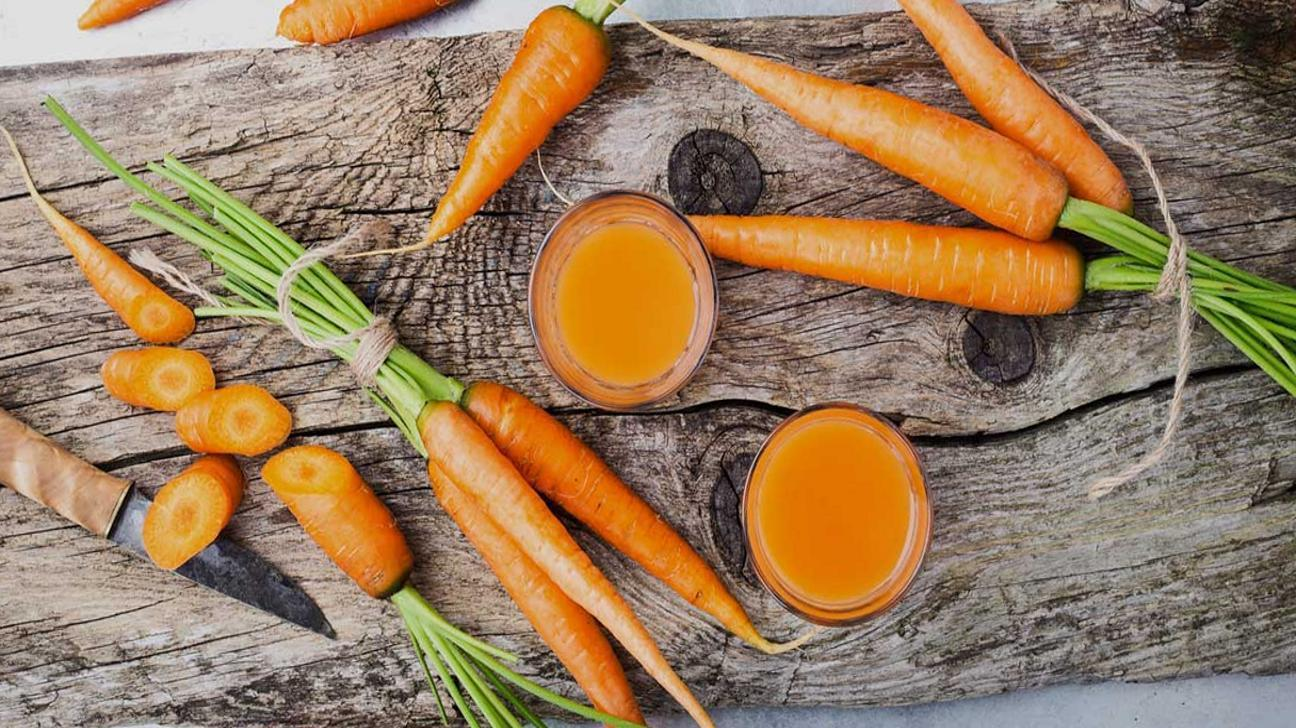carrot: (394, 382, 736, 728), (693, 30, 1142, 262), (244, 438, 546, 728), (378, 3, 620, 267), (703, 202, 1137, 328)
